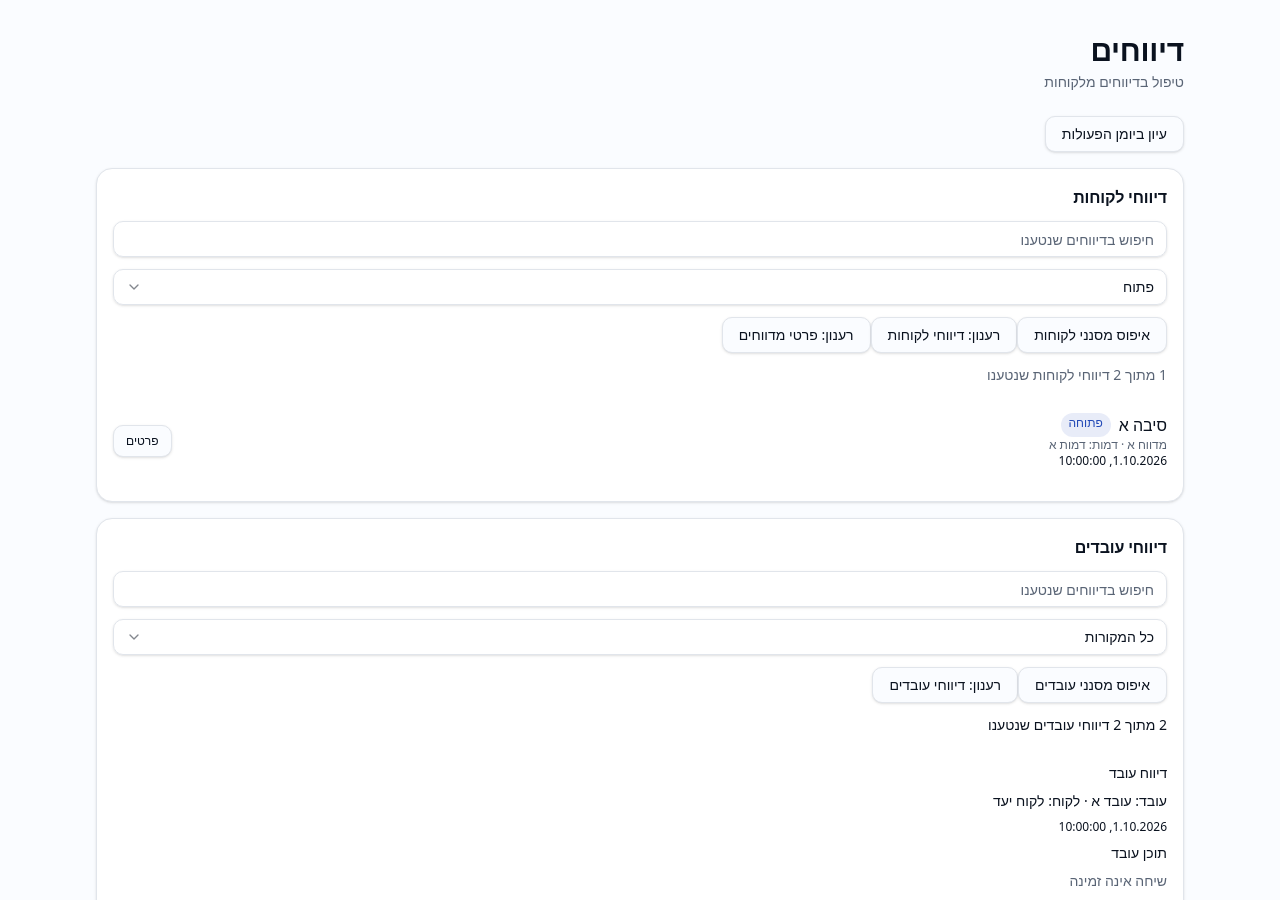
it: reports workspace › filters client status and worker source independently
Expected: the text "סיבה א" is shown, [1119, 413, 1167, 437]
Expected: the text "סיבה ב" is not shown
What coordinates should you click on to do the following:
click the dropdown named "מסנן סטטוס"
I would click on:
 (1138, 286)
Its box is [113, 269, 1167, 305].
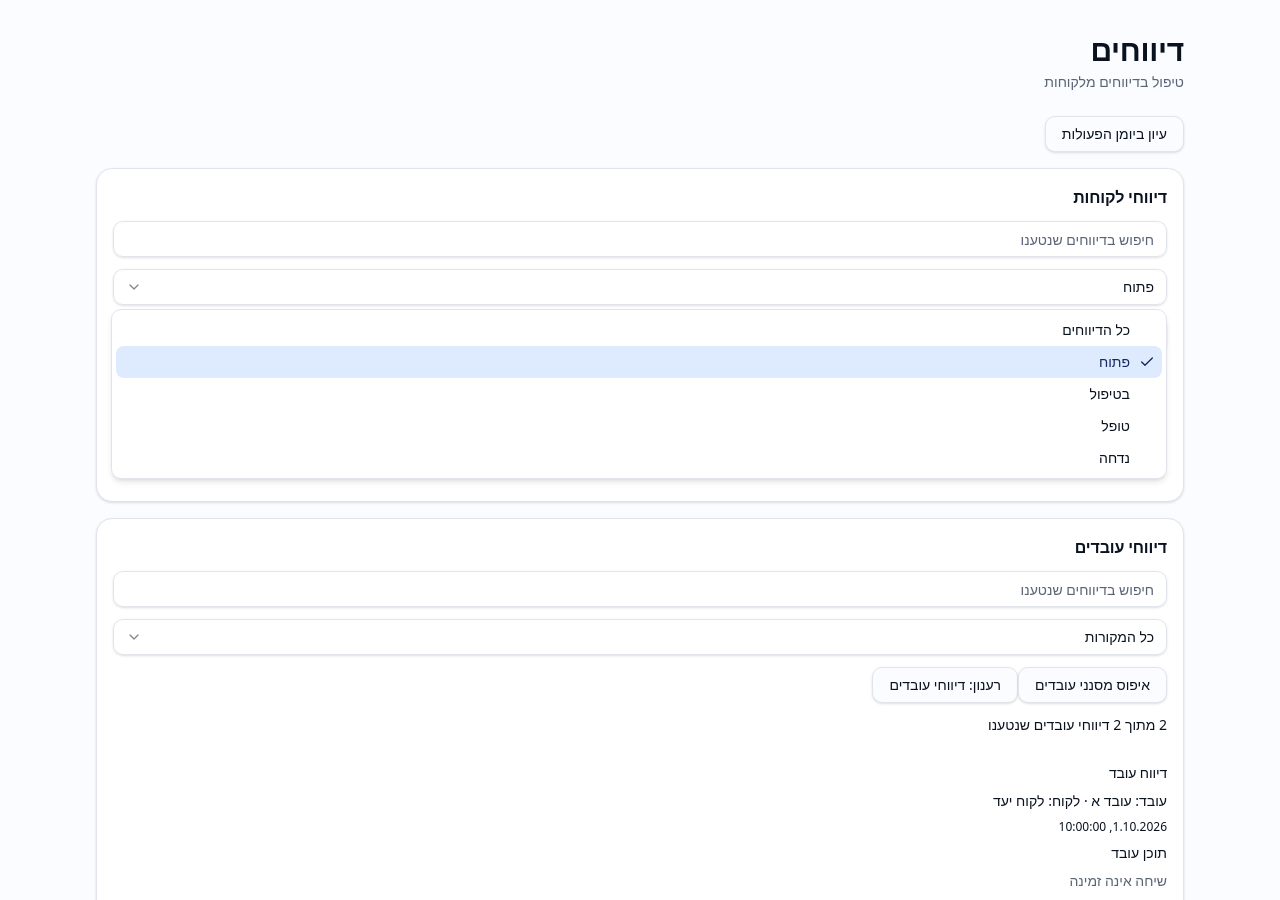
What coordinates should you click on to do the following:
click the option "טופל"
I would click on:
 (1116, 426)
Its box is [1101, 416, 1130, 435].
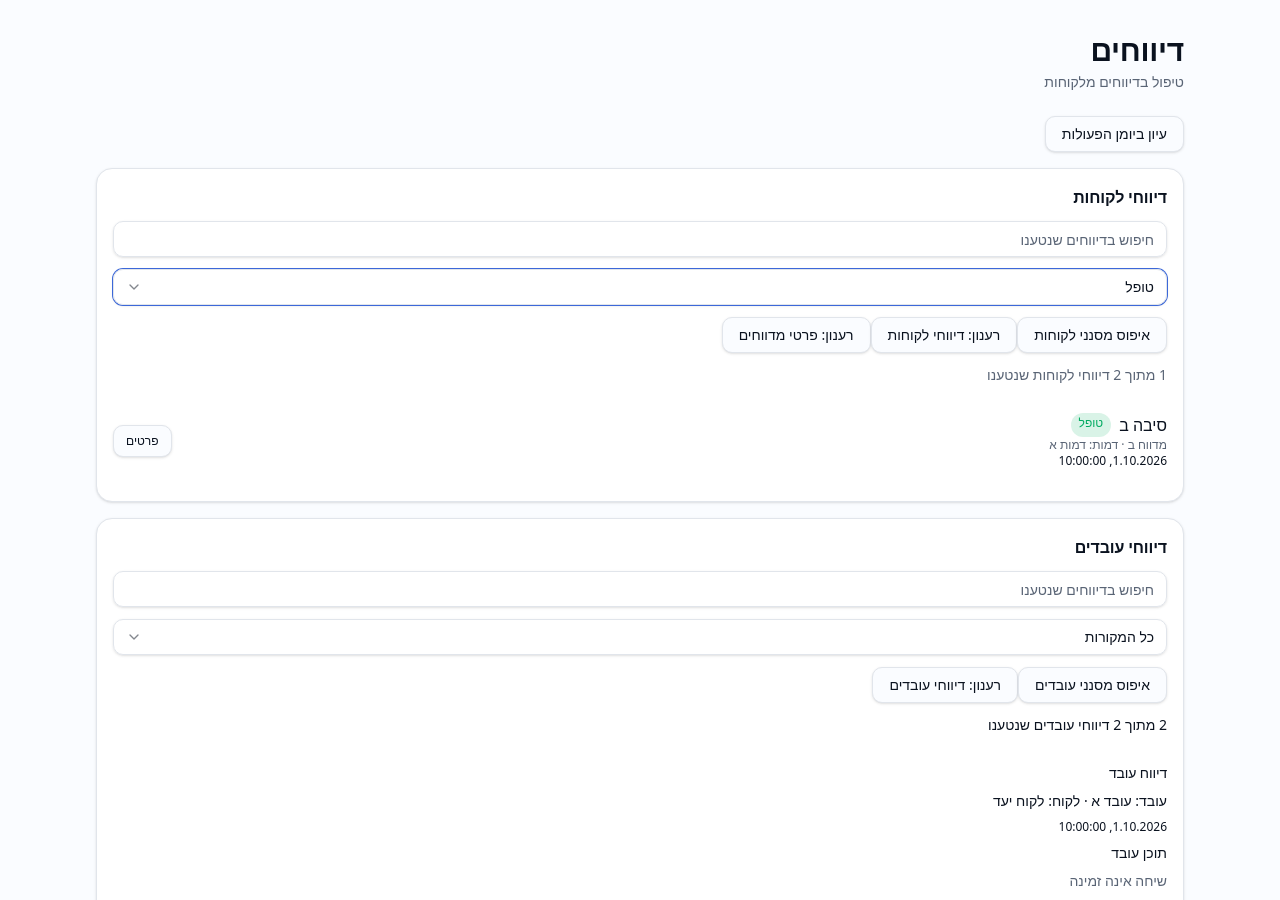
Result: the text "סיבה ב" is shown at [1119, 413, 1167, 437]
Result: the text "סיבה א" is gone
What coordinates should you click on to do the following:
click the dropdown named "מקור דיווח עובד"
I would click on:
 (1119, 636)
Its box is [113, 619, 1167, 655].
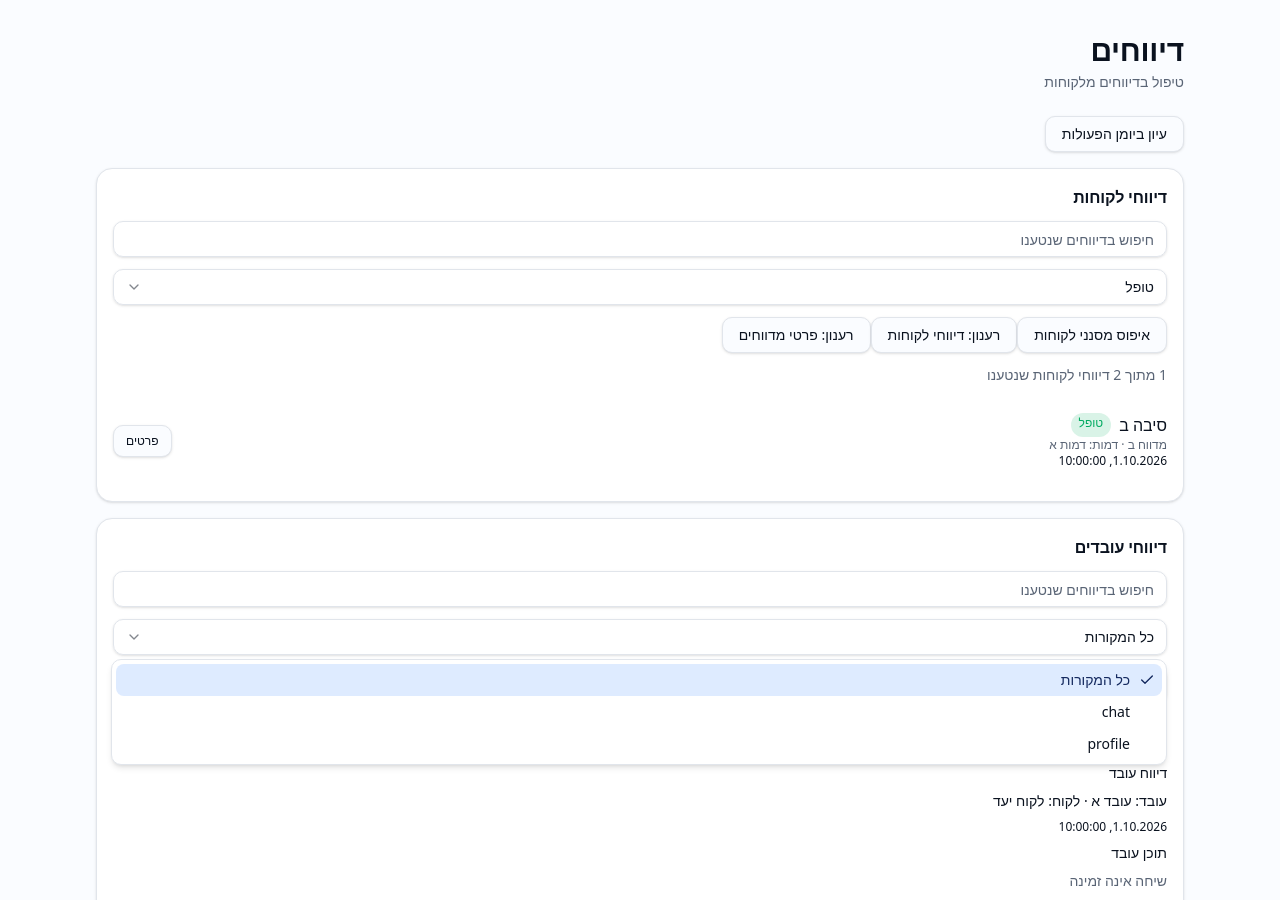
What coordinates should you click on to do the following:
click the option "profile"
I would click on:
 (1109, 744)
Its box is [1088, 734, 1130, 753].
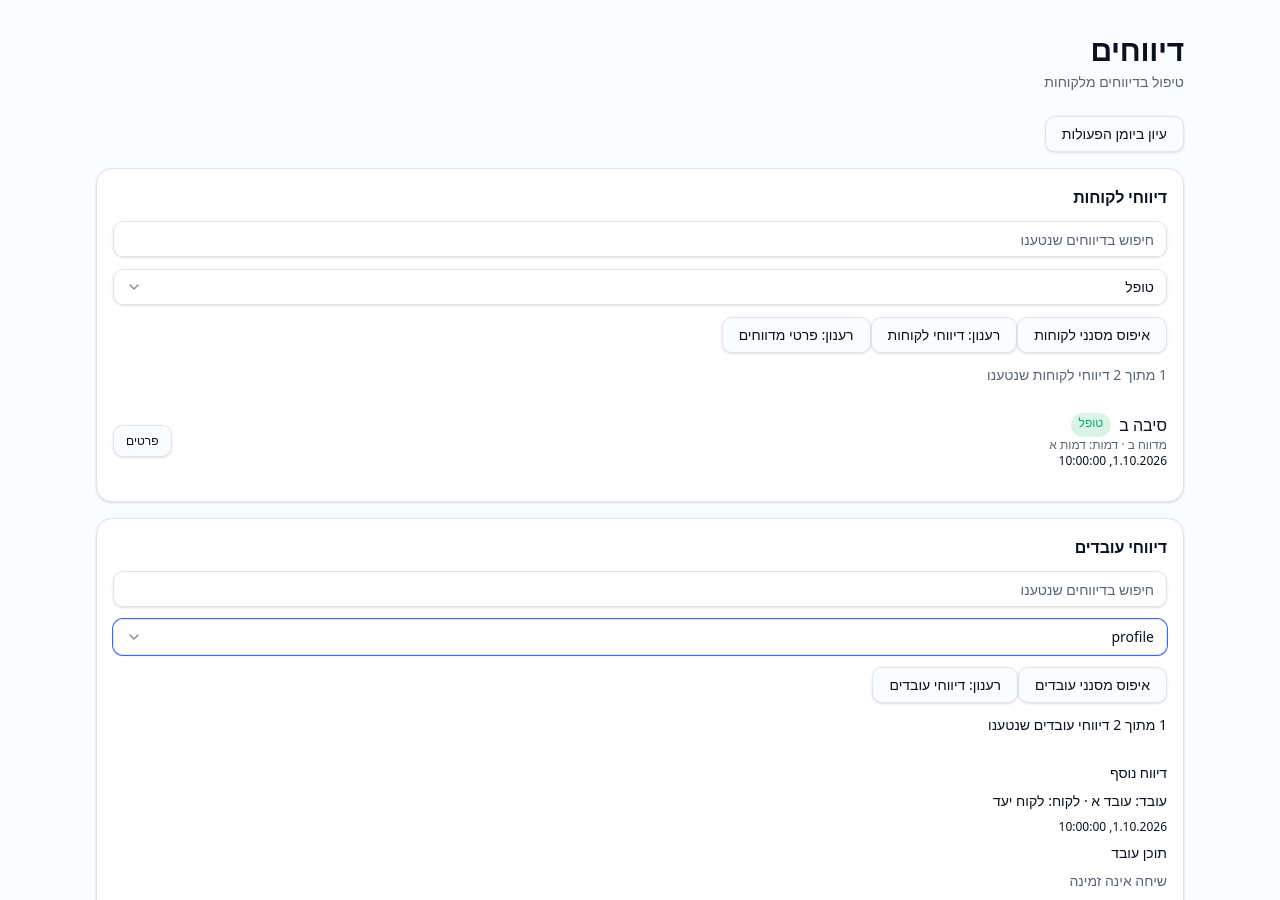
Expected: the heading "דיווח נוסף" is shown, [1110, 763, 1167, 782]
Result: the heading "דיווח עובד" is gone
